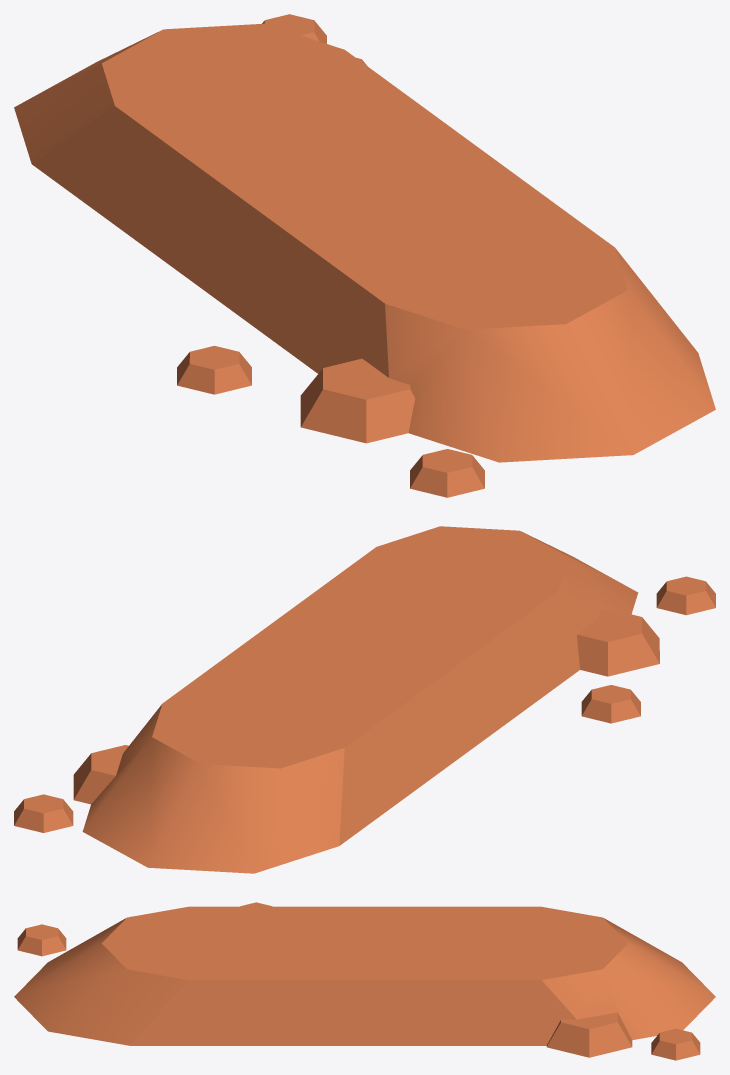
File: grave.obj
3 views of the same model, one above another, from view 1: azimuth 30°, elevation 25°; view 2: azimuth 150°, elevation 25°; view 3: azimuth 270°, elevation 25° (orthographic). The views are drawn at different scales.
Parts seen in each view (by area): view 1: grave; view 2: grave; view 3: grave.
Part boxes in pixels (x1,y1,x2,y2): grave: (14,14,715,497); grave: (14,526,715,873); grave: (14,902,715,1060).
Bounding box in the file's own units: 0.5731 × 0.0952 × 1.13.
